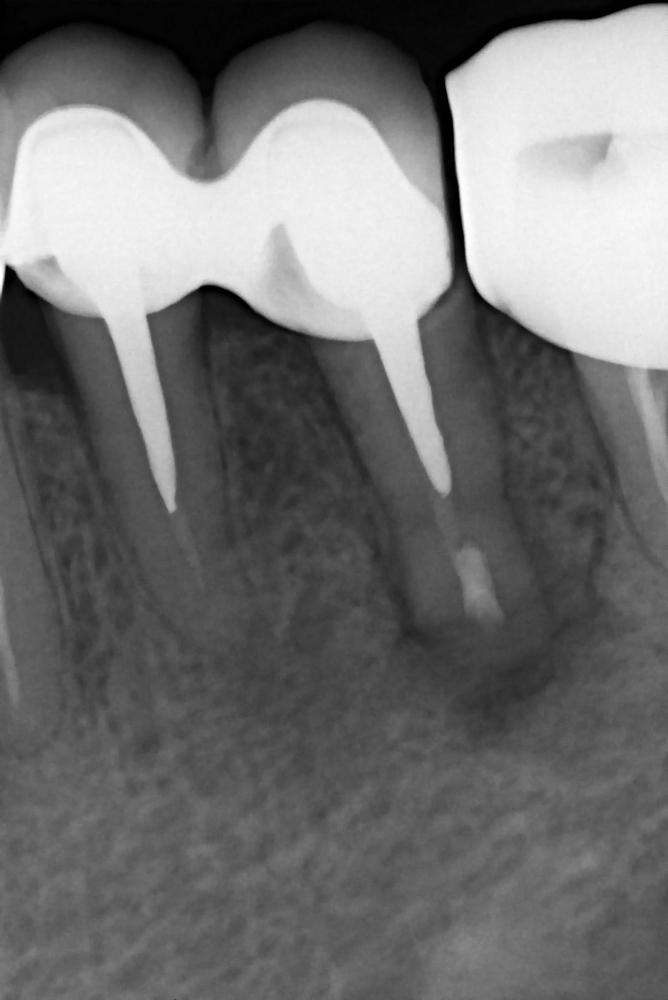Furcation Involvement: (377, 507, 614, 749)
